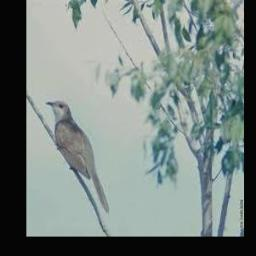Cuckoo: (45, 101, 109, 213)
